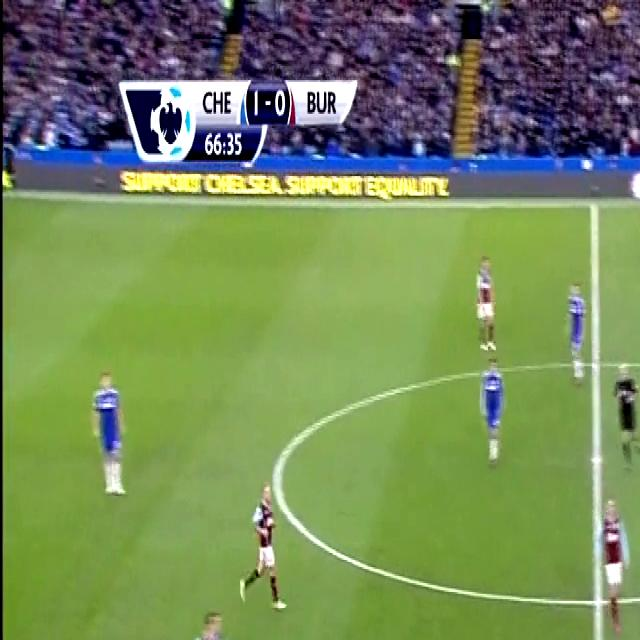referee: (608, 354, 640, 476)
soccer-player: (240, 472, 292, 624), (88, 359, 135, 508), (590, 489, 631, 640), (474, 345, 512, 475), (558, 270, 594, 391), (470, 242, 502, 358), (179, 599, 238, 640), (636, 185, 640, 281)
